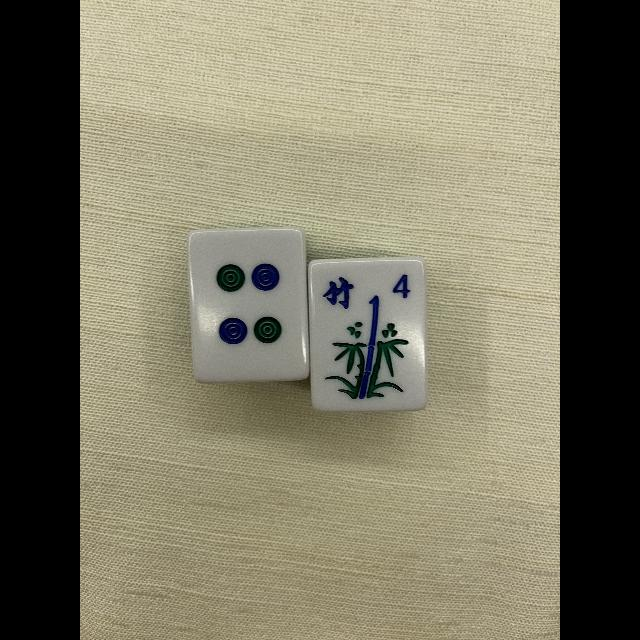d4: (193, 232, 303, 378)
f4: (314, 262, 422, 312)
